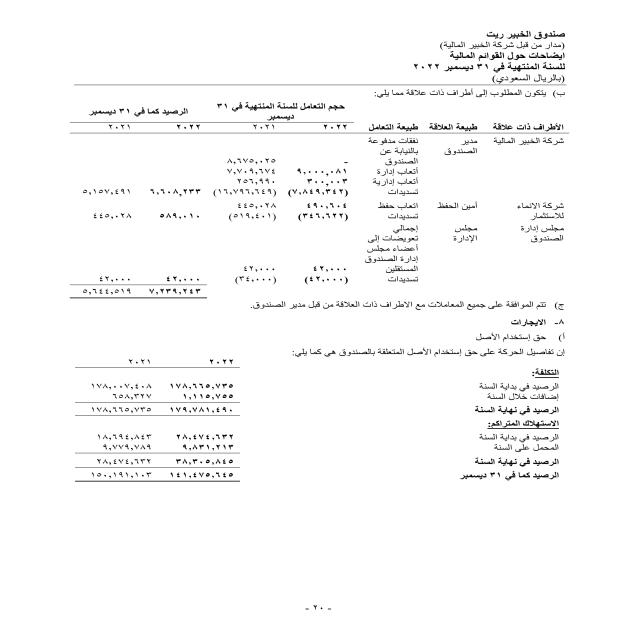notes: (449, 50, 567, 61)
table: (46, 96, 580, 301), (50, 344, 257, 507)
